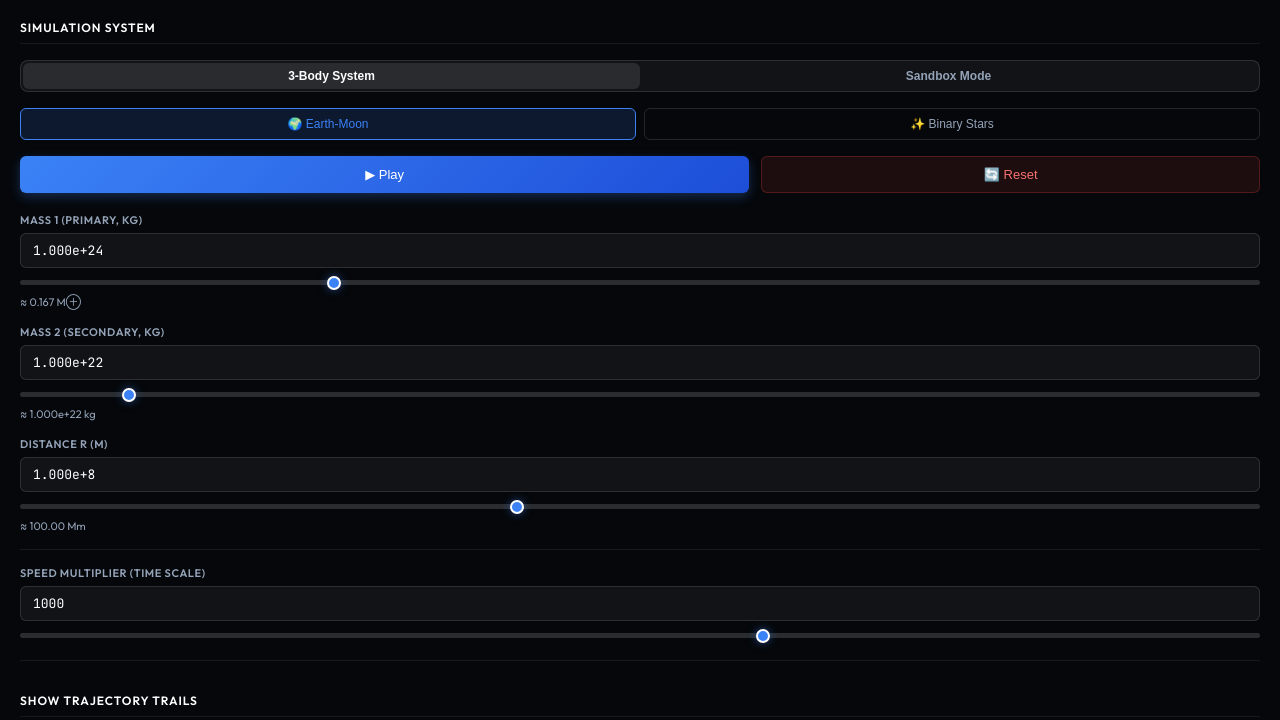
Test: ParameterControls component › rejects an out-of-range speed multiplier and reverts the field on blur
Replace the text in the field labelled "Speed Multiplier (time scale)" with "999999": (640, 604) left=20, top=586, right=1260, bottom=621
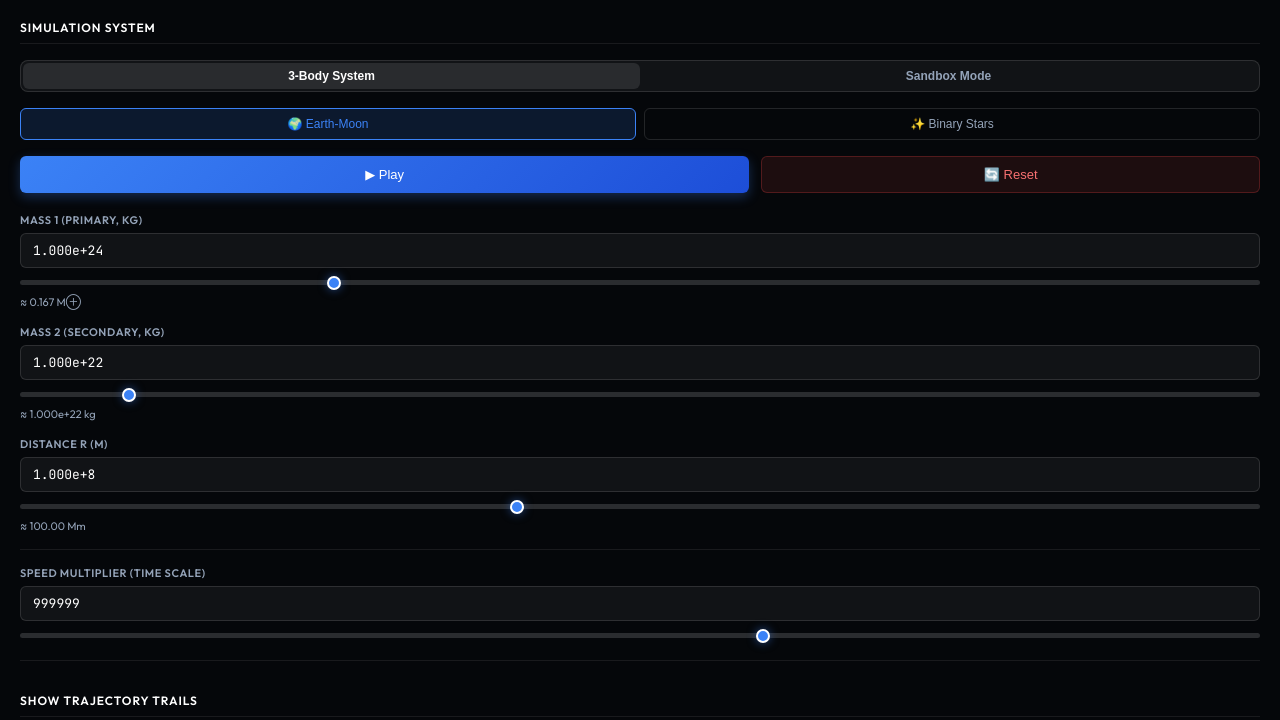
Leave the field labelled "Speed Multiplier (time scale)", box left=20, top=586, right=1260, bottom=621
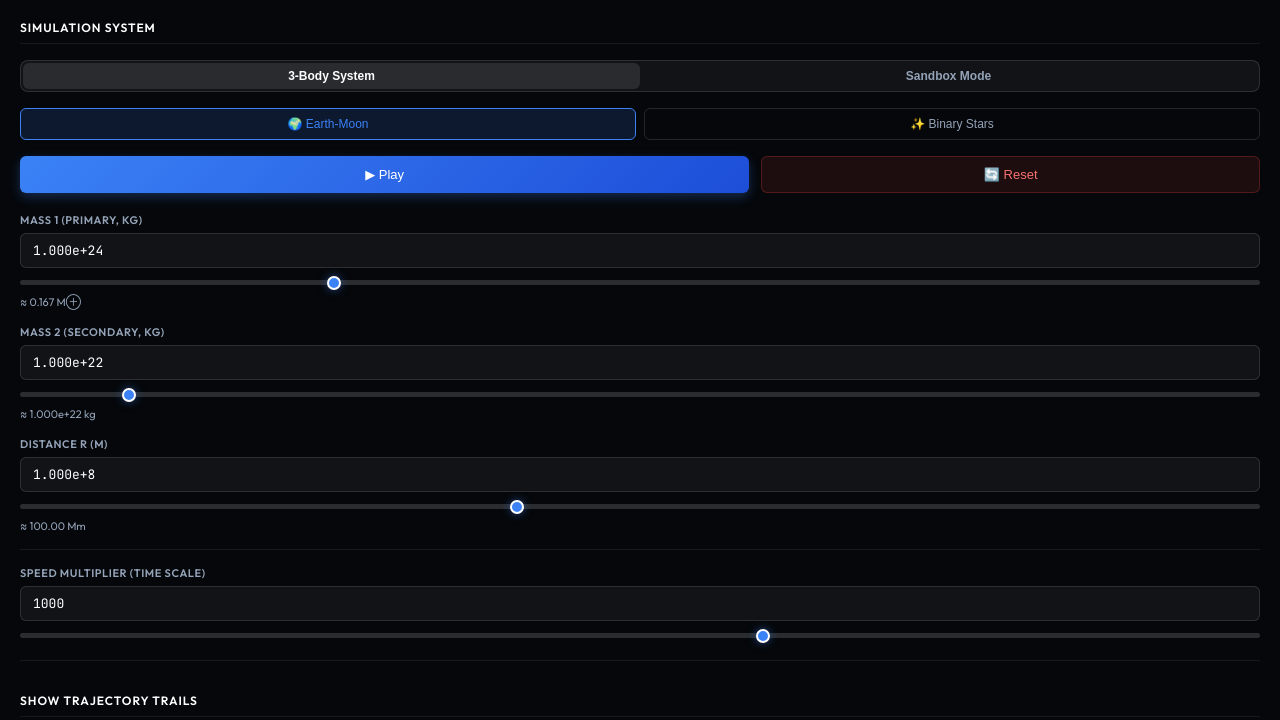
Now the field labelled "Speed Multiplier (time scale)" holds "1000", box left=20, top=586, right=1260, bottom=621
